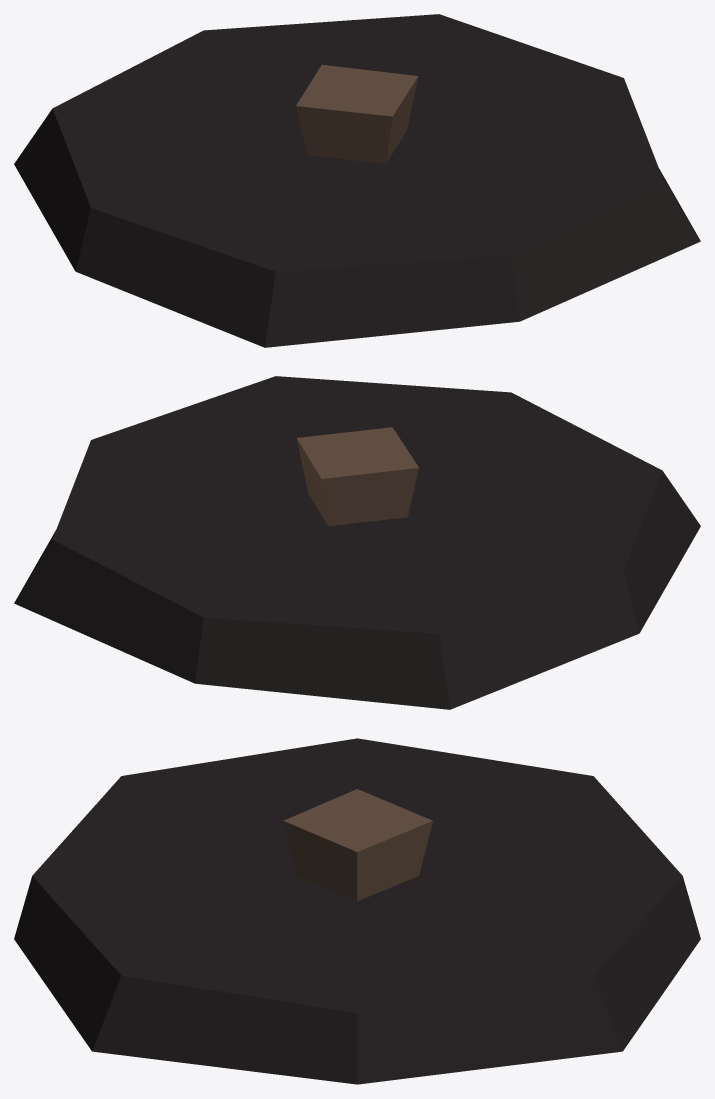
Rendered from lidCastIron.fbx.
3 views of the same model, one above another, from view 1: azimuth 30°, elevation 25°; view 2: azimuth 150°, elevation 25°; view 3: azimuth 270°, elevation 25° (orthographic). The views are drawn at different scales.
Parts seen in each view (by area): view 1: lidCastIron; view 2: lidCastIron; view 3: lidCastIron.
Part boxes in pixels (box(x1,y1,x2,y2)): lidCastIron: box(14, 14, 700, 347); lidCastIron: box(14, 376, 700, 709); lidCastIron: box(14, 738, 700, 1084).
Bounding box in the file's own units: 31.01 × 5.88 × 30.93.
Materials: 1 (1 with a texture image).
